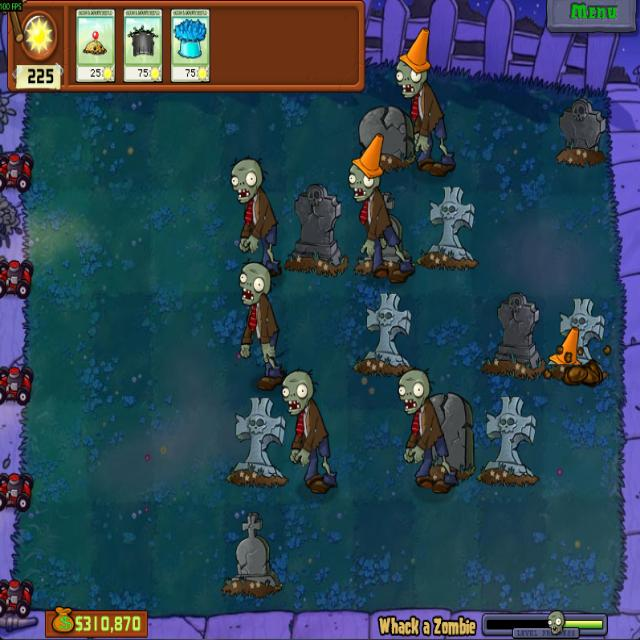conehead: (393, 26, 433, 99), (346, 133, 386, 202), (548, 326, 581, 372)
grave: (282, 183, 350, 274), (482, 291, 546, 383), (417, 185, 478, 277), (226, 395, 286, 488), (478, 395, 538, 488), (414, 393, 474, 483), (222, 511, 282, 598), (353, 291, 414, 375), (551, 294, 607, 383), (354, 192, 411, 279), (554, 95, 609, 169), (355, 105, 415, 170)
gravebuster: (123, 8, 163, 82)
zombie: (396, 367, 433, 415), (280, 368, 316, 416), (236, 260, 273, 306), (230, 157, 264, 206)
